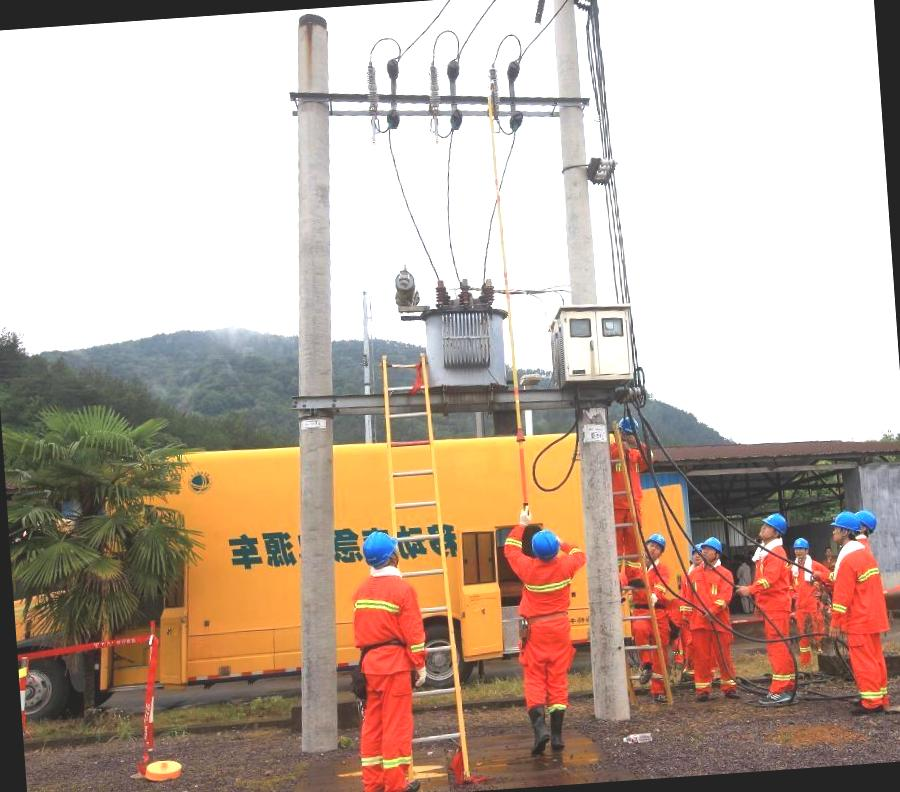helmet: (351, 528, 405, 573), (522, 526, 568, 567), (832, 509, 864, 540), (758, 506, 788, 538), (695, 531, 726, 559)
person: (330, 516, 441, 792), (485, 518, 592, 774), (820, 506, 891, 716), (734, 507, 802, 711), (677, 531, 745, 703), (618, 532, 679, 704), (781, 536, 829, 674)
